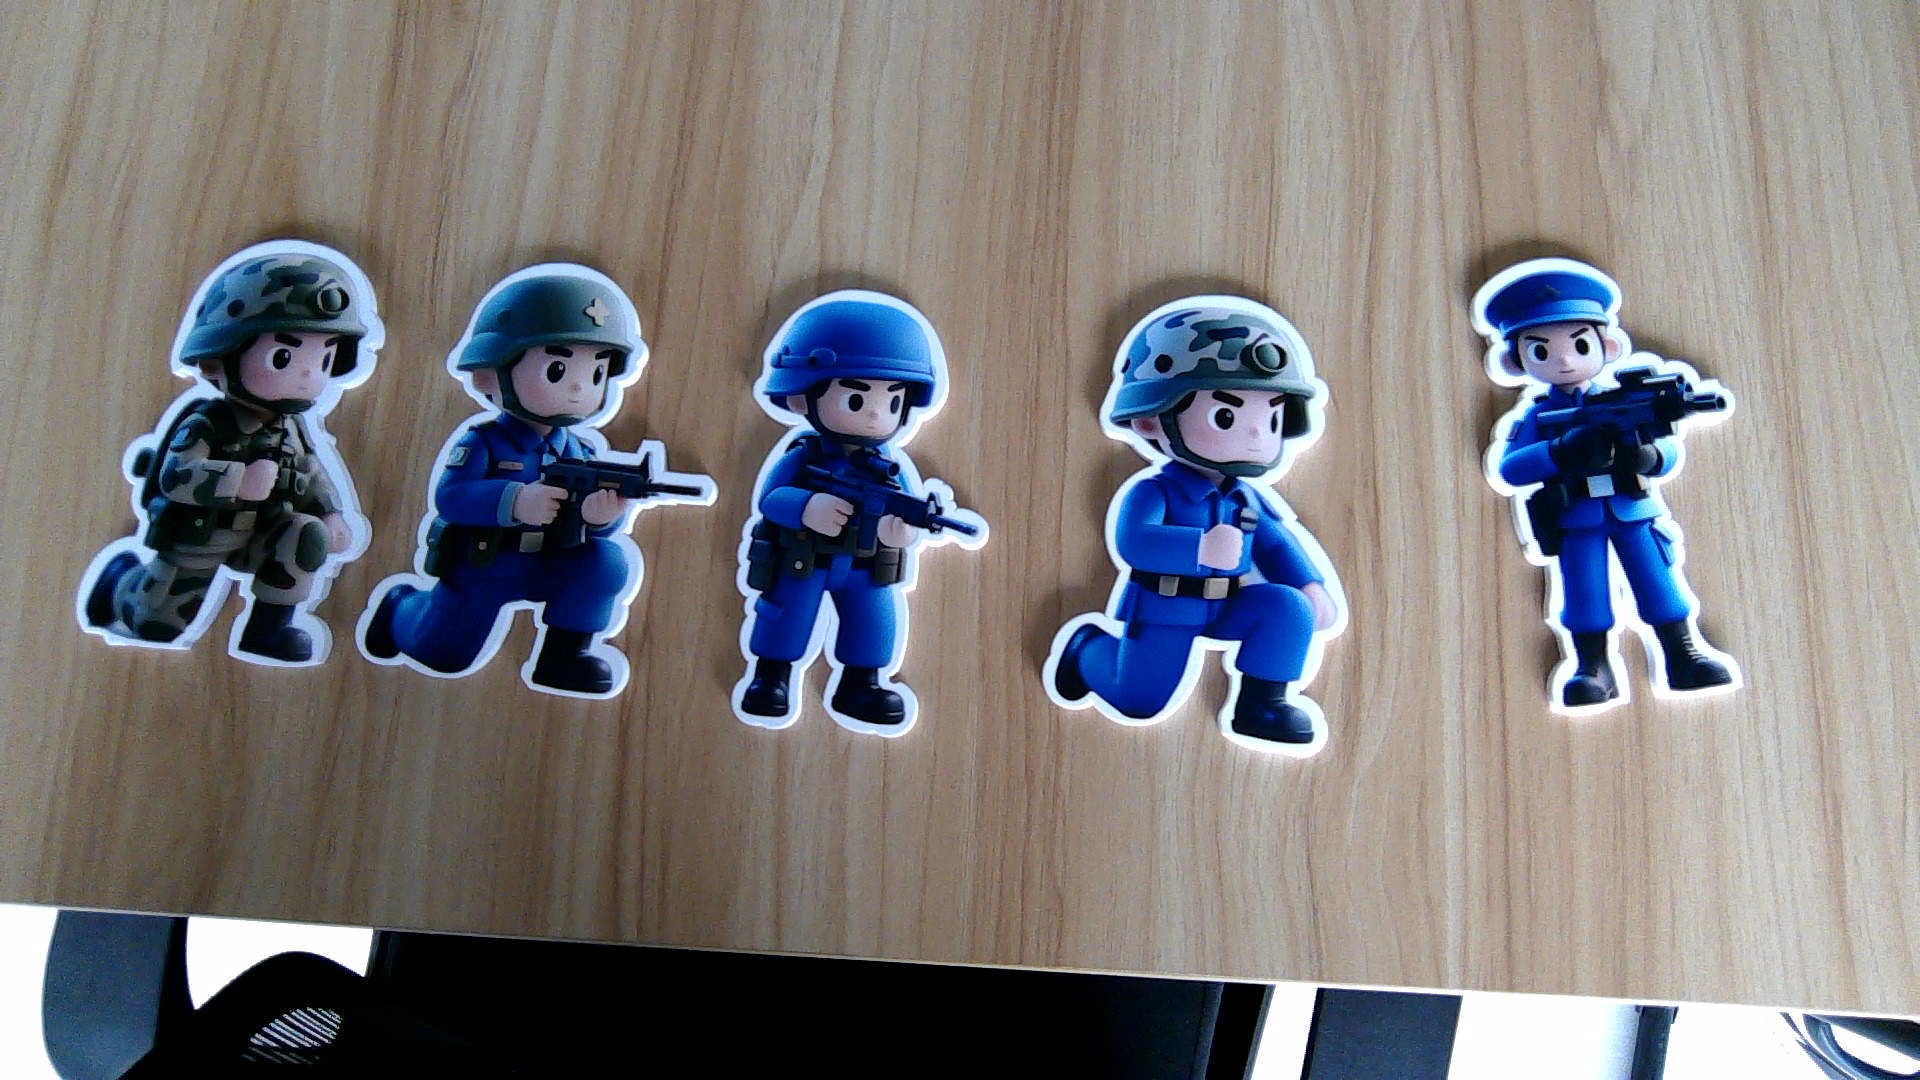友军: (71, 400, 356, 673)
敌人2: (1466, 384, 1775, 723), (356, 414, 709, 702), (1040, 473, 1349, 762), (728, 450, 982, 738)
